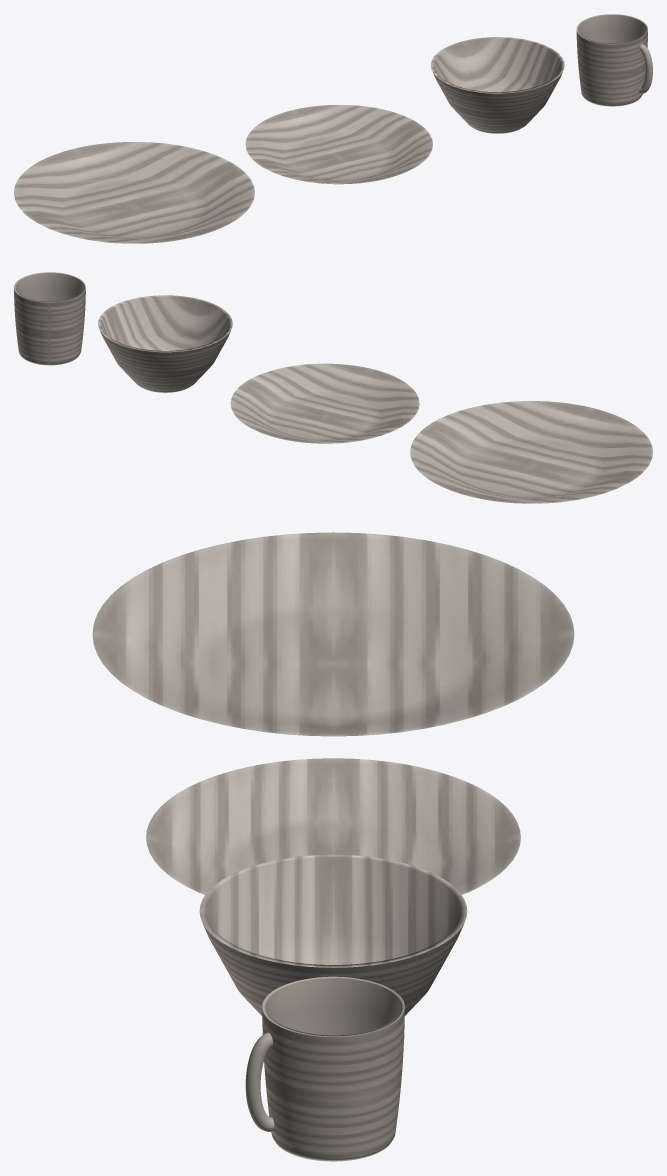
File: EST-01.glb
3 views of the same model, one above another, from view 1: azimuth 30°, elevation 25°; view 2: azimuth 150°, elevation 25°; view 3: azimuth 270°, elevation 25° (orthographic). The views are drawn at different scales.
Size of the model in its own units: 0.7932 by 0.08 by 0.27.
Materials: 9 (7 with a texture image).
